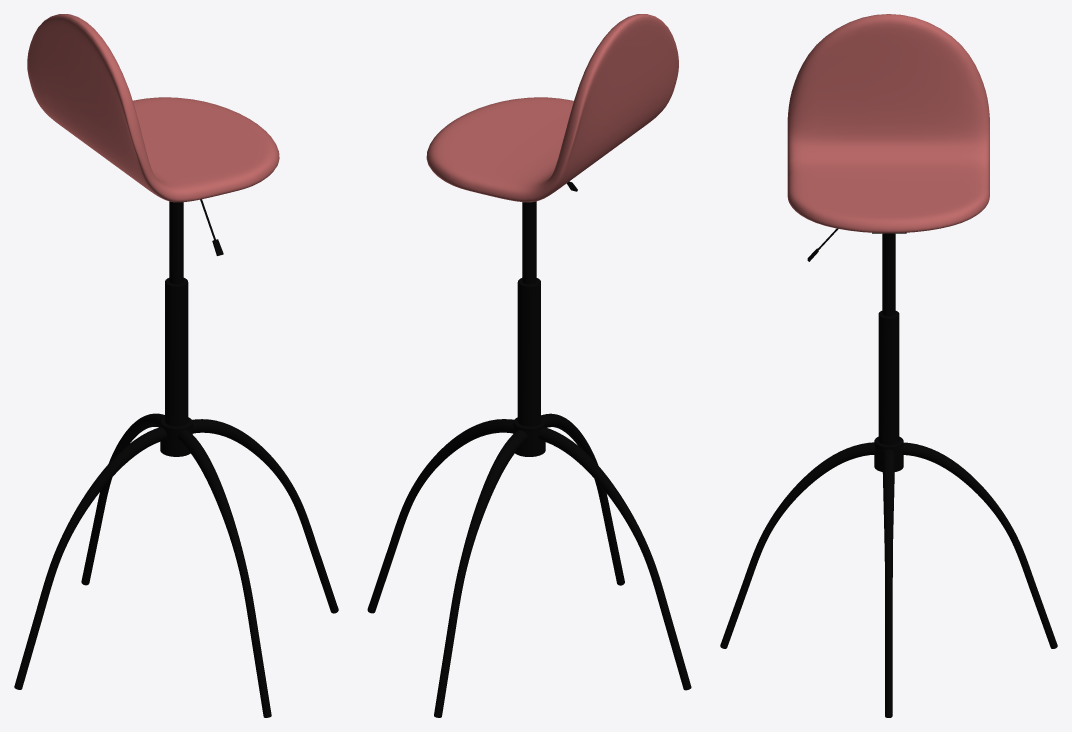
The model's file is chair.fbx.
The picture shows the model from 3 angles, left to right: view 1: azimuth 30°, elevation 25°; view 2: azimuth 150°, elevation 25°; view 3: azimuth 270°, elevation 25°; orthographic projection. The views are drawn at different scales.
Parts seen in each view (by area): view 1: Box01, Cylinder01, Loft03_pivot, Loft04_pivot, Loft01_pivot, Loft02_pivot, Cylinder03, Cylinder02; view 2: Box01, Cylinder01, Loft03_pivot, Loft02_pivot, Loft01_pivot, Loft04_pivot, Cylinder03, Cylinder02; view 3: Box01, Cylinder01, Loft04_pivot, Loft02_pivot, Loft01_pivot, Cylinder03.
Boxes of the visible parts, left/top/right/bottom form: Box01: left=27, top=14, right=279, bottom=202; Cylinder01: left=165, top=278, right=188, bottom=426; Loft03_pivot: left=15, top=427, right=166, bottom=684; Loft04_pivot: left=177, top=430, right=270, bottom=711; Loft01_pivot: left=192, top=419, right=337, bottom=608; Loft02_pivot: left=82, top=413, right=164, bottom=580; Cylinder03: left=169, top=201, right=183, bottom=284; Cylinder02: left=160, top=421, right=192, bottom=456; Box01: left=426, top=14, right=678, bottom=202; Cylinder01: left=517, top=278, right=540, bottom=426; Loft03_pivot: left=538, top=427, right=689, bottom=684; Loft02_pivot: left=434, top=430, right=527, bottom=711; Loft01_pivot: left=369, top=419, right=513, bottom=608; Loft04_pivot: left=541, top=413, right=623, bottom=581; Cylinder03: left=522, top=201, right=536, bottom=284; Cylinder02: left=513, top=421, right=545, bottom=456; Box01: left=787, top=14, right=989, bottom=233; Cylinder01: left=878, top=311, right=899, bottom=444; Loft04_pivot: left=721, top=442, right=875, bottom=644; Loft02_pivot: left=902, top=442, right=1056, bottom=644; Loft01_pivot: left=882, top=449, right=894, bottom=712; Cylinder03: left=882, top=233, right=895, bottom=316.
Bounding box in the file's own units: 4.76 × 9.19 × 4.76.
